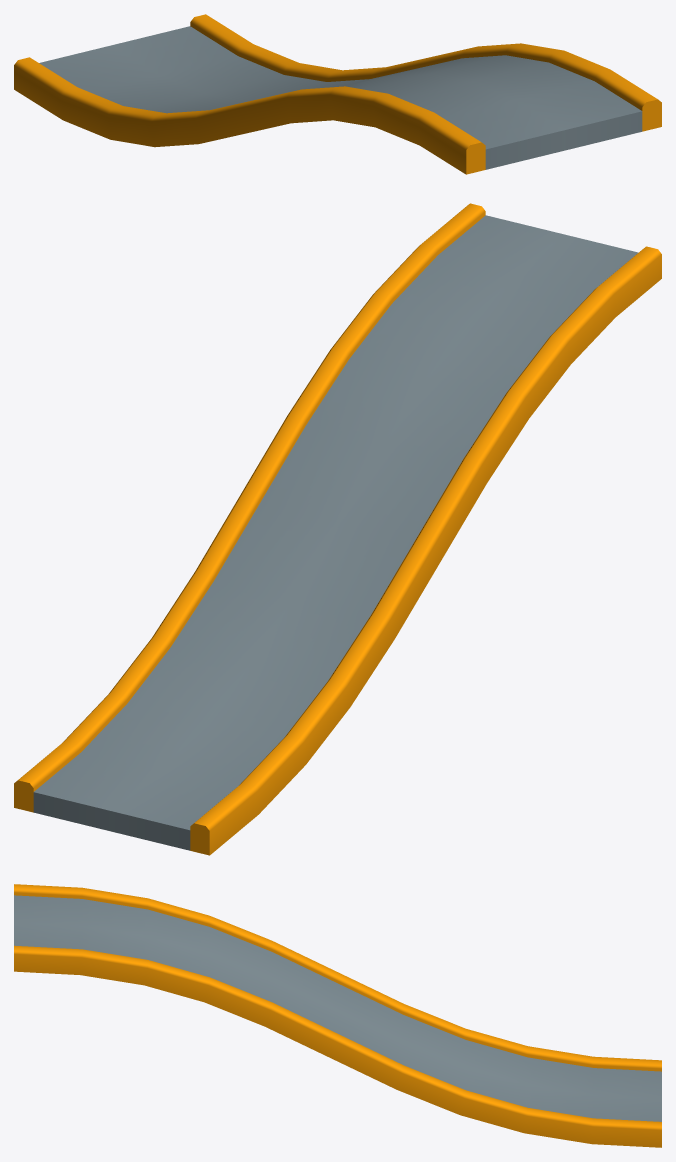
File: platform_011.fbx
3 views of the same model, one above another, from view 1: azimuth 30°, elevation 25°; view 2: azimuth 150°, elevation 25°; view 3: azimuth 270°, elevation 25° (orthographic). The views are drawn at different scales.
Parts seen in each view (by area): view 1: platform_011; view 2: platform_011; view 3: platform_011.
Boxes of the visible parts, <box> form: platform_011: <box>14,14,661,174</box>; platform_011: <box>14,203,661,855</box>; platform_011: <box>14,884,661,1147</box>.
Size of the model in its own units: 500 by 2000 by 670.
